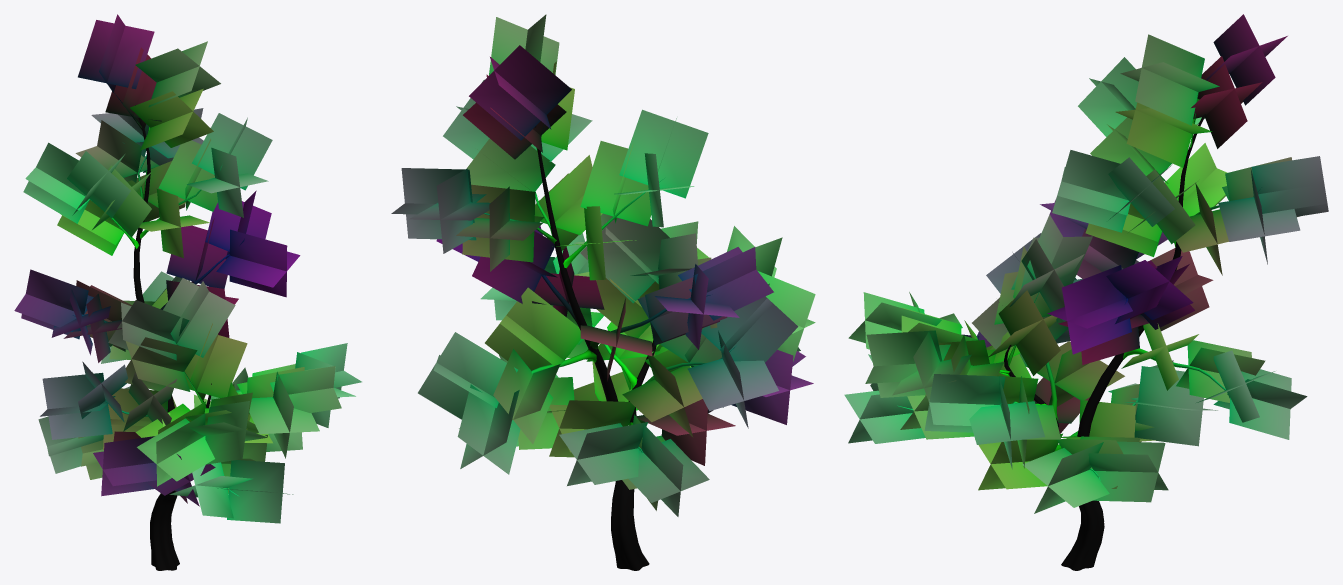
Rendered from M_P3_Tree_6.fbx.
3 renders of one model, left to right at view 1: azimuth 30°, elevation 25°; view 2: azimuth 150°, elevation 25°; view 3: azimuth 270°, elevation 25°, orthographic. The views are drawn at different scales.
Visible parts, largest first — view 1: Tree_6; view 2: Tree_6; view 3: Tree_6.
Part boxes in pixels (x1,y1,x2,y2): Tree_6: (14,14,361,570); Tree_6: (391,14,815,570); Tree_6: (844,14,1328,570).
Size of the model in its own units: 572 by 965 by 752.
